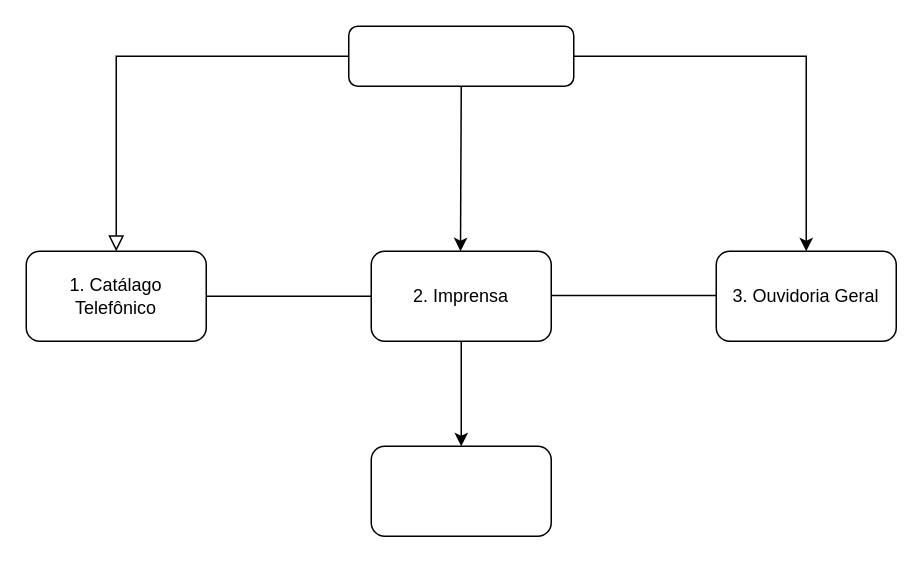
The diagram is 923 pixels wide and 563 high, and some of its shapes have lost their labels. Each missing label, with the centre of its shape:
"0. Acesso a contatos e Imprensa" belongs at (x=460, y=55).
"2.1 Acesso a Funcionalidade" belongs at (x=460, y=490).
